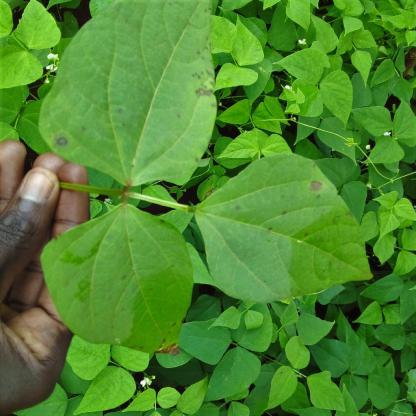Beans_Angular_LeafSpot: (43, 0, 217, 185), (35, 201, 197, 369), (193, 158, 370, 304)
